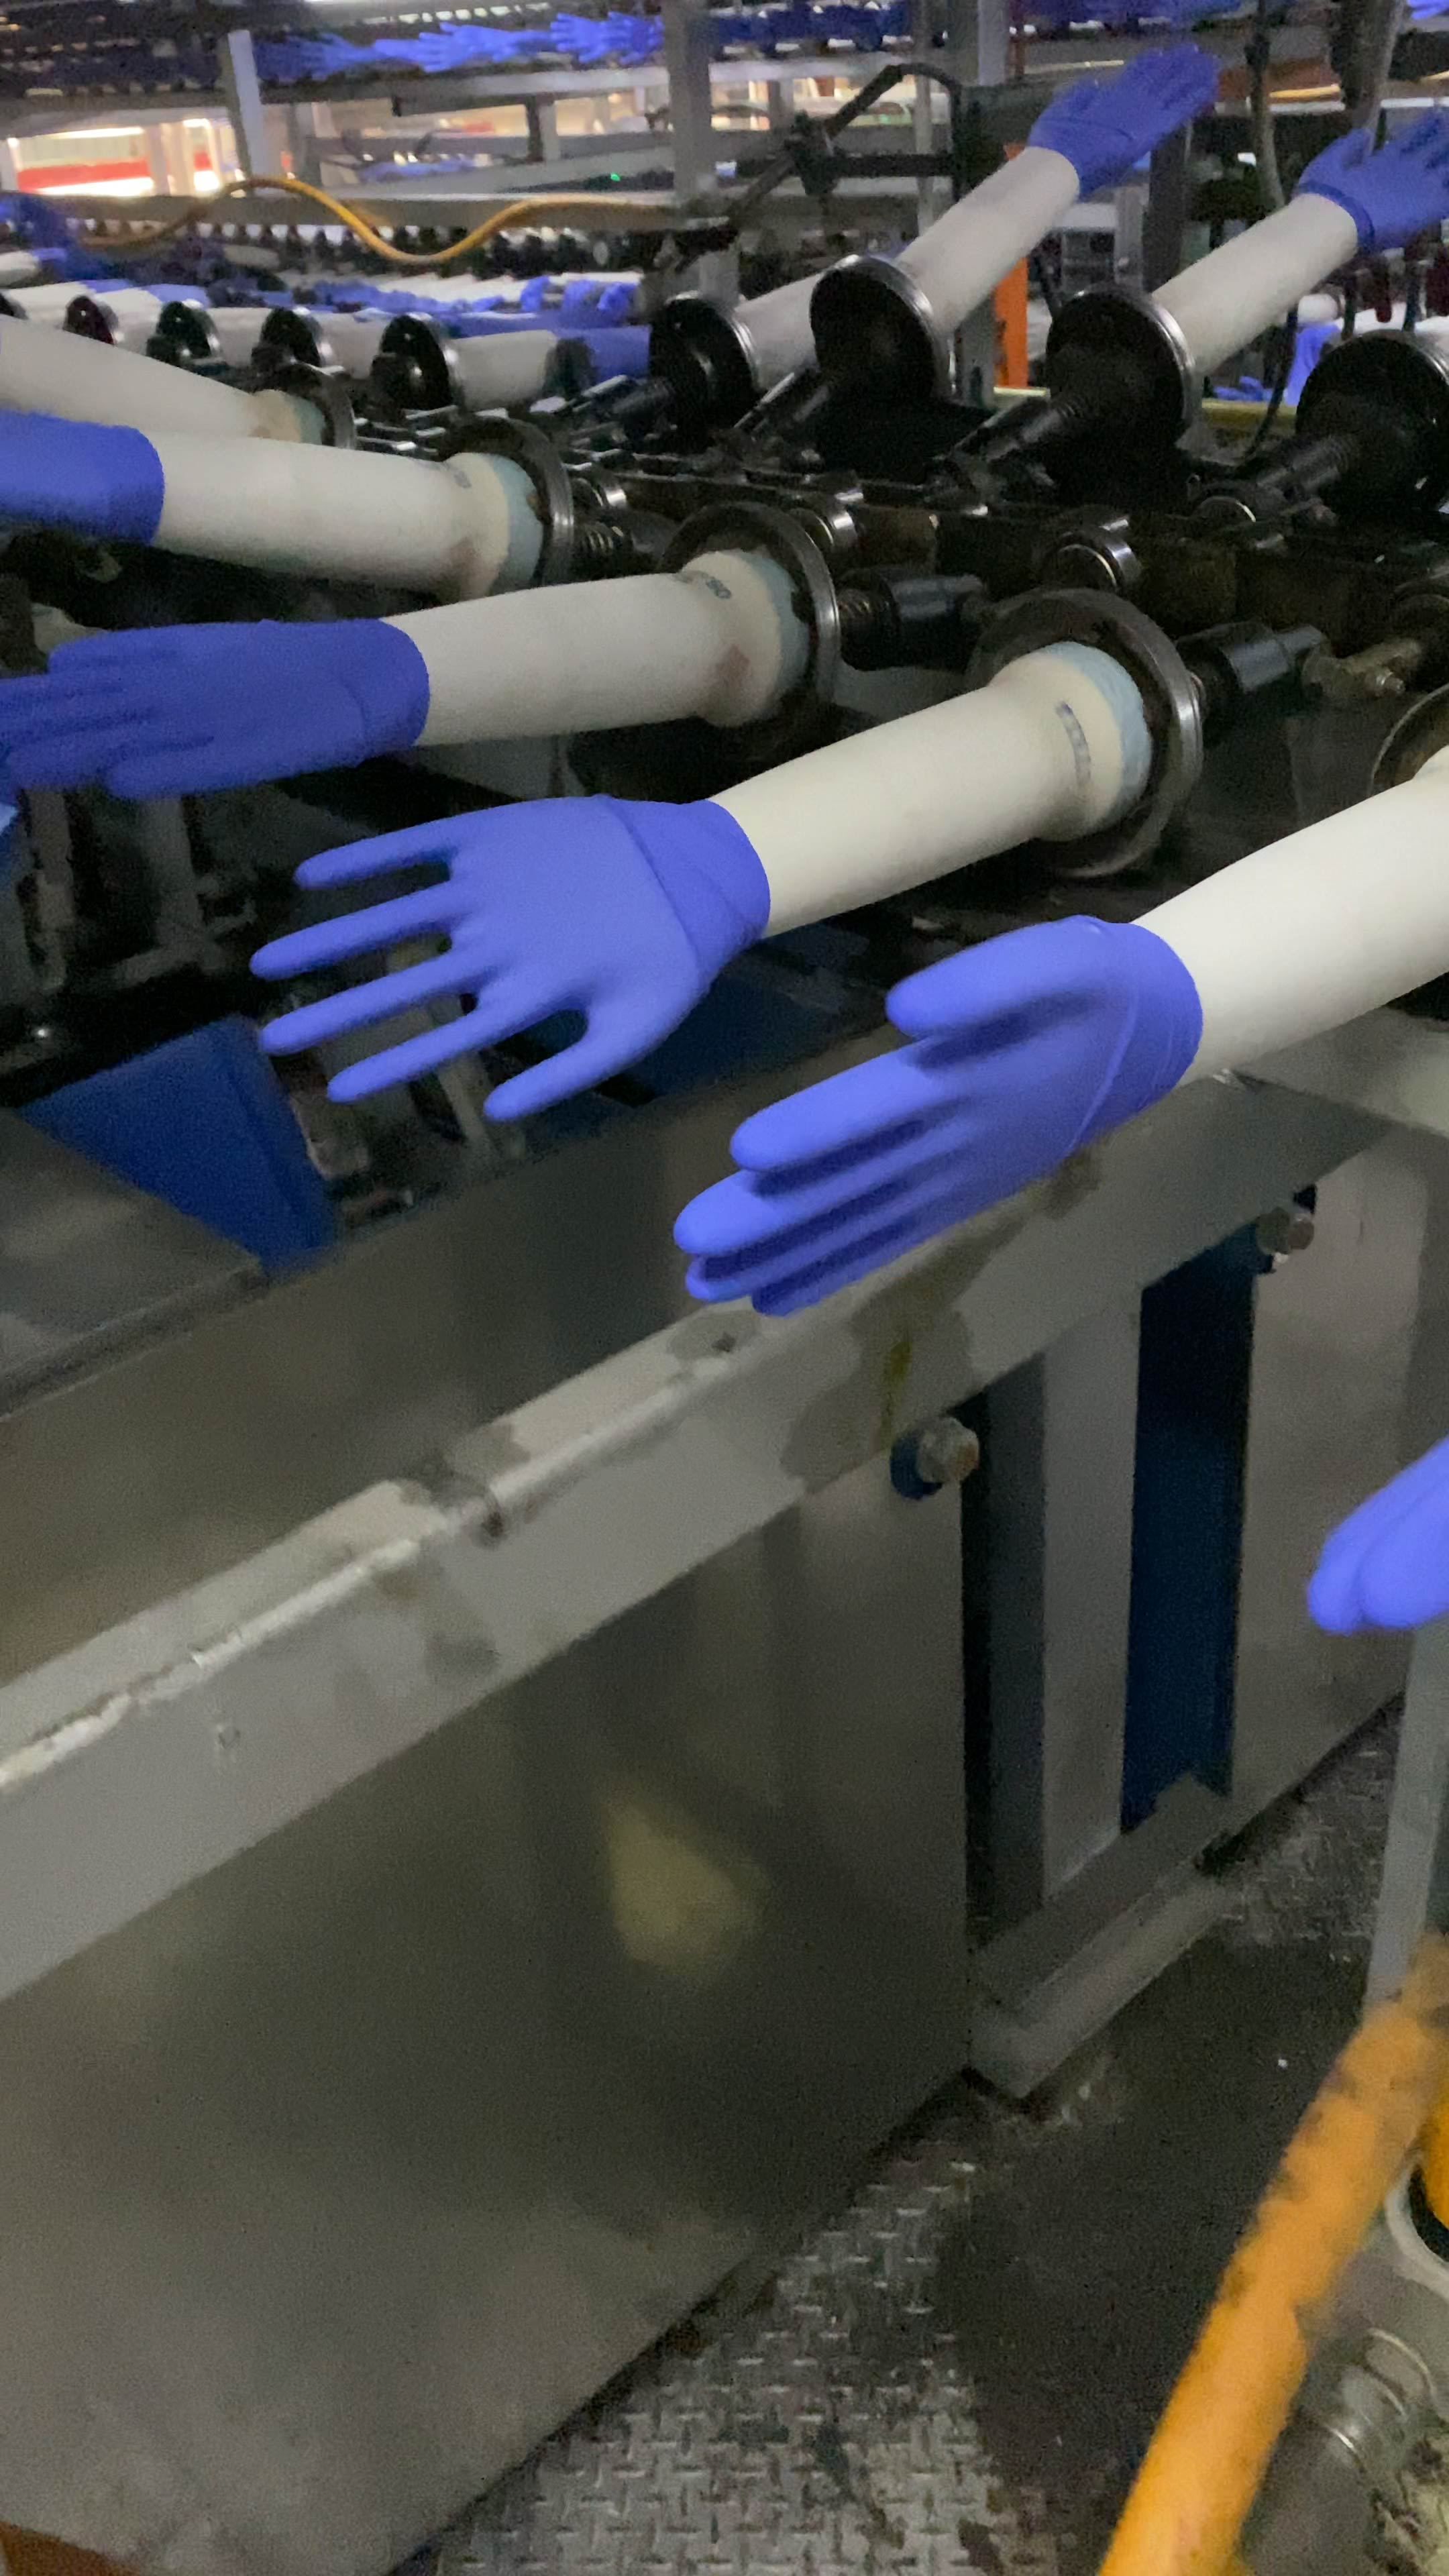glove: (674, 916, 1201, 1315), (249, 796, 770, 1116), (0, 621, 428, 794), (1309, 1433, 1449, 1631), (1026, 44, 1212, 193), (0, 409, 163, 556), (1293, 113, 1449, 251), (295, 28, 363, 80), (550, 14, 609, 69), (419, 23, 471, 80), (265, 37, 317, 85)
